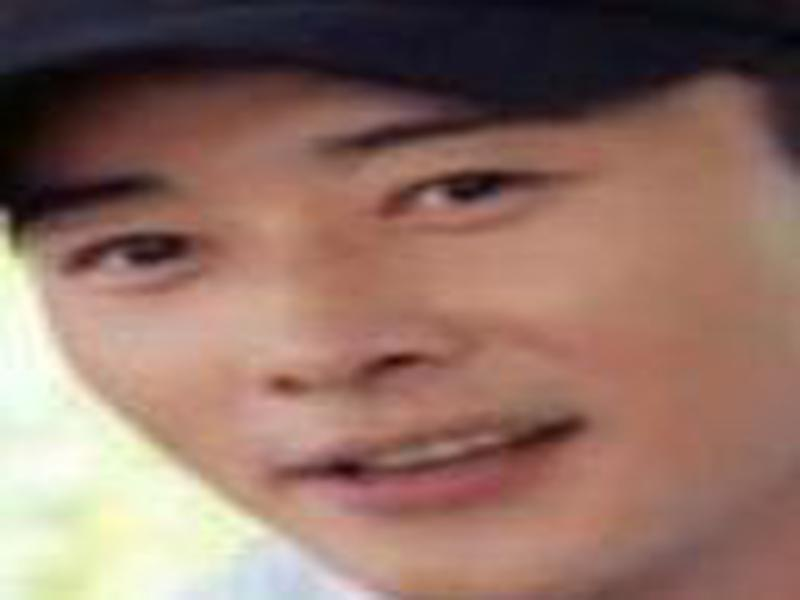without_mask: (22, 56, 776, 593)
